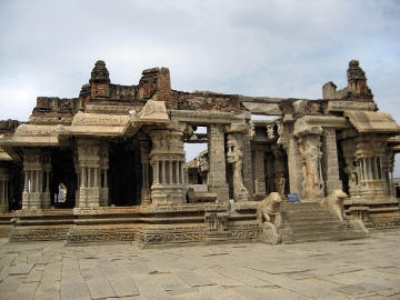mandapa: (28, 92, 186, 224)
